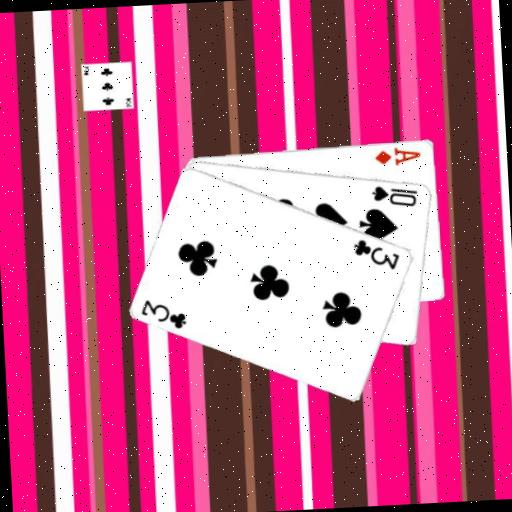10S: (368, 180, 420, 210)
3C: (350, 234, 402, 273), (137, 295, 189, 333)
AD: (371, 143, 423, 168)
